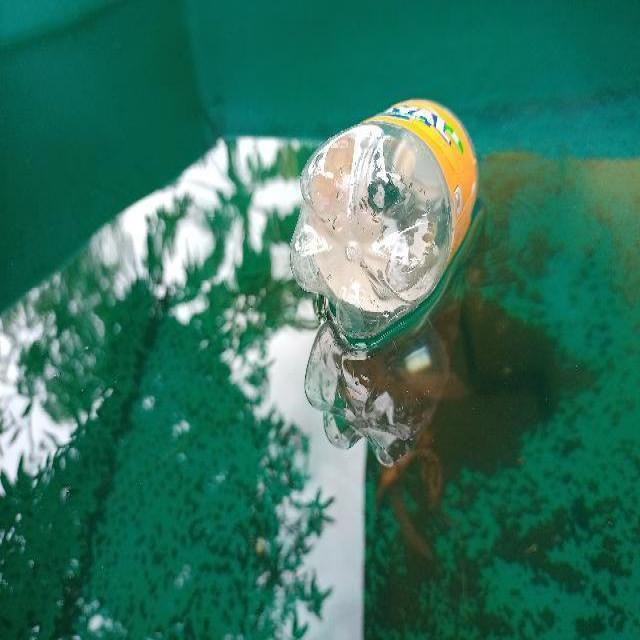Bottle: (280, 86, 489, 350)
